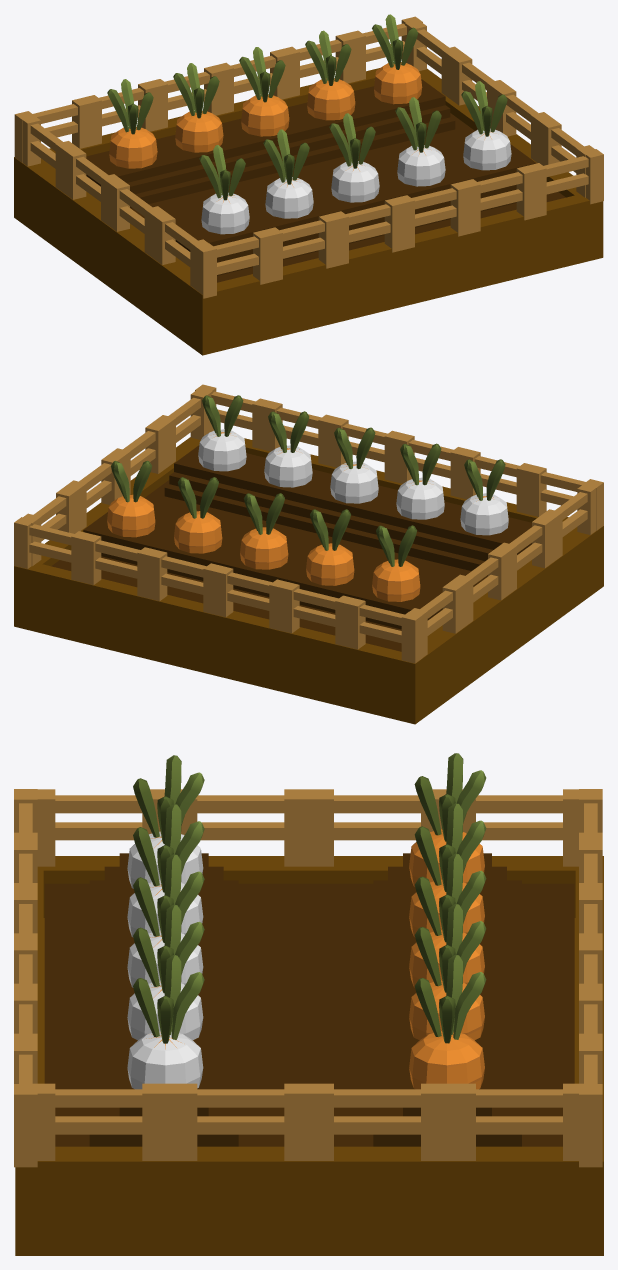
The model's file is Gerden re.fbx.
3 renders of one model, top to bottom at view 1: azimuth 30°, elevation 25°; view 2: azimuth 150°, elevation 25°; view 3: azimuth 270°, elevation 25°, orthographic. The views are drawn at different scales.
Parts seen in each view (by area): view 1: Cube.002, Fence.040, carrot_1.013, carrot_1.007, carrot_1.006, carrot_1.012, carrot_1.011, carrot_1.008, carrot_1.010, carrot_1.009, carrot_1.005, carrot_1.004 (+19 smaller); view 2: Cube.002, Fence.029, Fence.030, Fence.033, Fence.031, Fence.034, carrot_1.013, carrot_1.012, carrot_1.010, carrot_1.011, carrot_1.004, carrot_1.007 (+19 smaller); view 3: Cube.002, Fence.046, Fence.047, Fence.045, Fence.048, carrot_1.009, carrot_1.004, Fence.042, Fence.043, Fence.044, Fence.041, carrot_1.010 (+19 smaller).
Part boxes in pixels (left/top/right/bottom): Cube.002: left=14, top=68, right=603, bottom=355; Fence.040: left=195, top=229, right=274, bottom=298; carrot_1.013: left=107, top=79, right=157, bottom=168; carrot_1.007: left=329, top=113, right=379, bottom=202; carrot_1.006: left=263, top=129, right=313, bottom=218; carrot_1.012: left=173, top=63, right=223, bottom=152; carrot_1.011: left=239, top=47, right=289, bottom=136; carrot_1.008: left=395, top=97, right=445, bottom=186; carrot_1.010: left=305, top=30, right=355, bottom=120; carrot_1.009: left=461, top=81, right=511, bottom=170; carrot_1.005: left=199, top=145, right=249, bottom=234; carrot_1.004: left=372, top=14, right=422, bottom=104; Cube.002: left=14, top=437, right=603, bottom=724; Fence.029: left=344, top=597, right=422, bottom=663; Fence.030: left=278, top=581, right=351, bottom=646; Fence.033: left=80, top=533, right=157, bottom=598; Fence.031: left=212, top=566, right=289, bottom=630; Fence.034: left=14, top=517, right=87, bottom=582; carrot_1.013: left=372, top=525, right=420, bottom=601; carrot_1.012: left=306, top=509, right=354, bottom=585; carrot_1.010: left=174, top=477, right=222, bottom=553; carrot_1.011: left=240, top=493, right=288, bottom=569; carrot_1.004: left=107, top=460, right=155, bottom=537; carrot_1.007: left=330, top=427, right=378, bottom=503; Cube.002: left=15, top=853, right=603, bottom=1255; Fence.046: left=169, top=1083, right=311, bottom=1160; Fence.047: left=306, top=1083, right=448, bottom=1160; Fence.045: left=28, top=1083, right=169, bottom=1160; Fence.048: left=448, top=1083, right=589, bottom=1160; carrot_1.009: left=127, top=955, right=204, bottom=1089; carrot_1.004: left=409, top=955, right=486, bottom=1089; Fence.042: left=306, top=789, right=446, bottom=866; Fence.043: left=180, top=789, right=311, bottom=866; Fence.044: left=37, top=789, right=164, bottom=866; Fence.041: left=462, top=789, right=578, bottom=866; carrot_1.010: left=409, top=904, right=486, bottom=1040.
Size of the model in its own units: 4.87 by 1.75 by 3.97.
